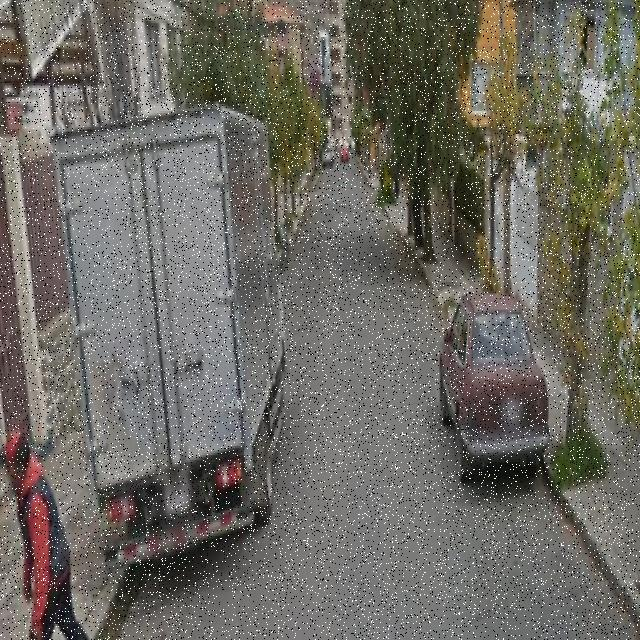cars: (60, 122, 292, 560), (439, 273, 552, 493)
